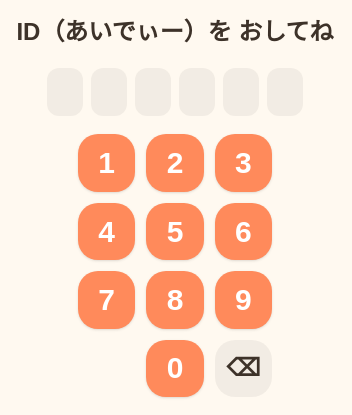
Scenario: typing 6 digits auto-advances to the pin step
Click the button "1".
click(107, 163)  # box [78,134,135,192]
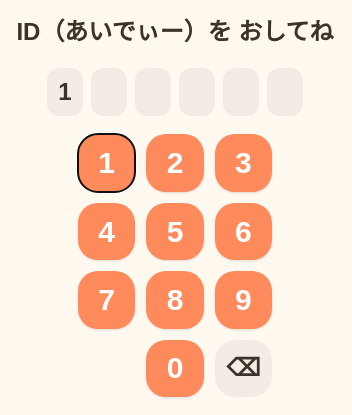
Click the button "2".
click(175, 163)  # box [146,134,204,192]
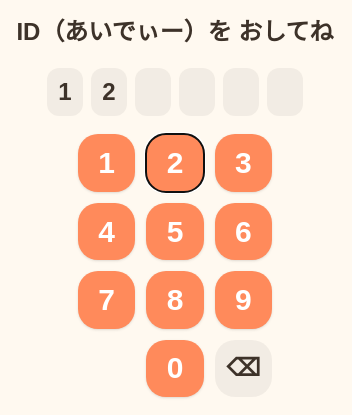
Click the button "3".
click(243, 163)  # box [215,134,272,192]
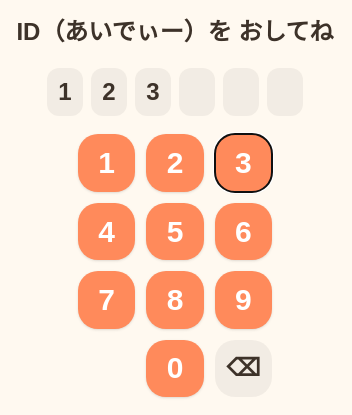
Click the button "4".
click(107, 232)  # box [78,203,135,260]
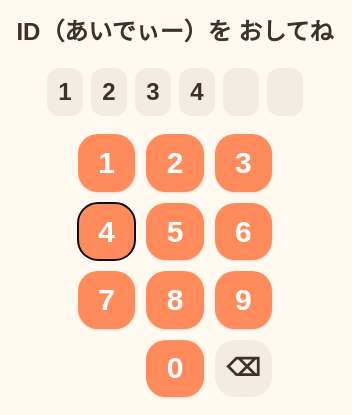
Click the button "5".
click(175, 232)  # box [146,203,204,260]
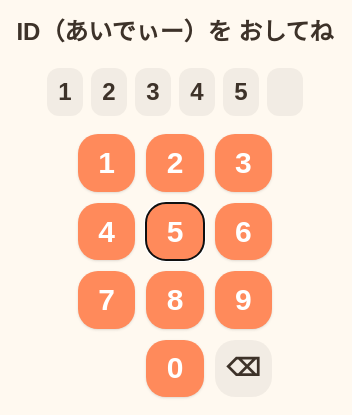
Click the button "6".
click(243, 232)  # box [215,203,272,260]
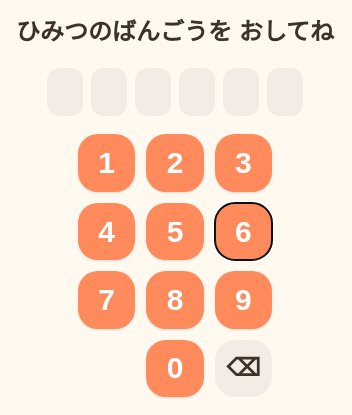
Expected: the heading "ひみつのばんごうを おしてね" is shown, [16,14,334,50]
